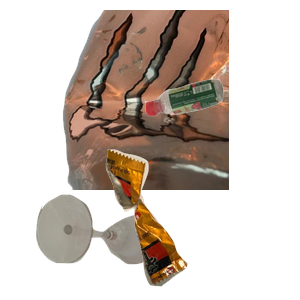glass: (34, 192, 187, 300)
metal: (60, 10, 300, 190)
plastic: (142, 77, 300, 186)
trash: (103, 147, 300, 300)
